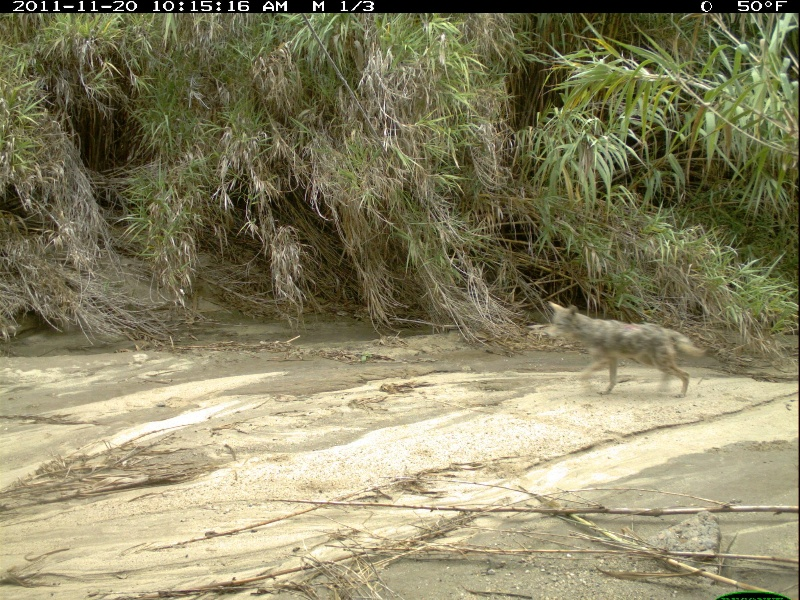coyote: (546, 299, 707, 401)
